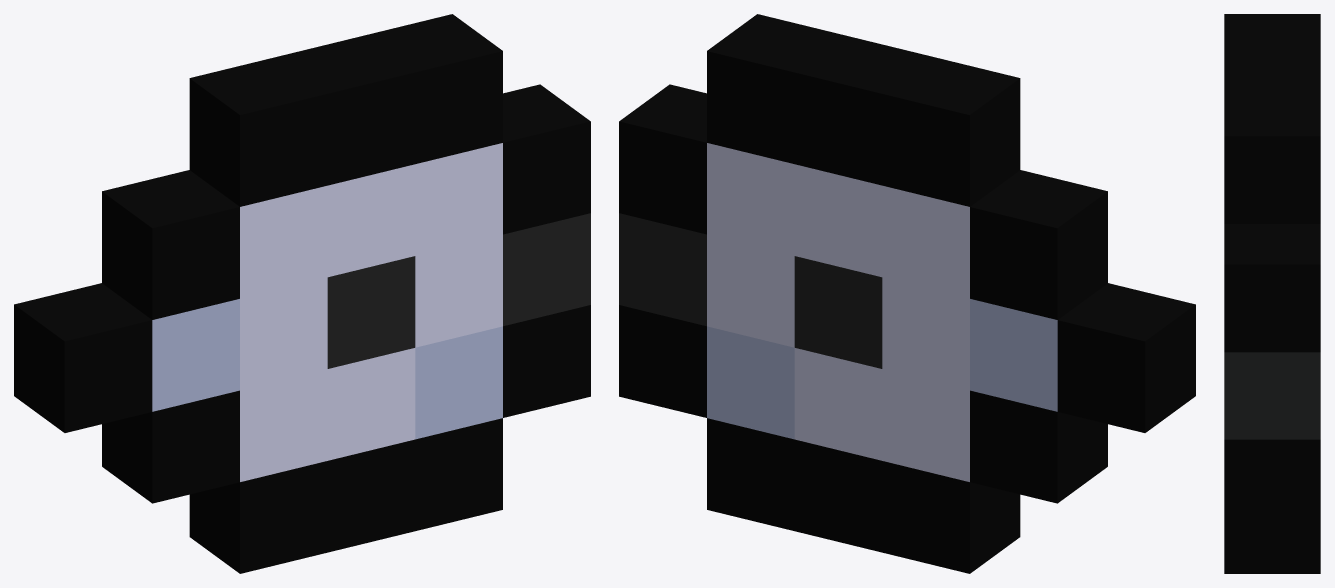
File: Moonstone Pupfish.glb
3 views of the same model, side by side, from view 1: azimuth 30°, elevation 25°; view 2: azimuth 150°, elevation 25°; view 3: azimuth 270°, elevation 25° (orthographic). The views are drawn at different scales.
Visible parts, largest first — view 1: generated(Clone); view 2: generated(Clone); view 3: generated(Clone).
Boxes of the visible parts, bbox=[...] form: generated(Clone): bbox=[14, 14, 590, 573]; generated(Clone): bbox=[619, 14, 1195, 573]; generated(Clone): bbox=[1224, 14, 1320, 573].
Size of the model in its own units: 6 by 5 by 1.
Materials: 1 (1 with a texture image).
